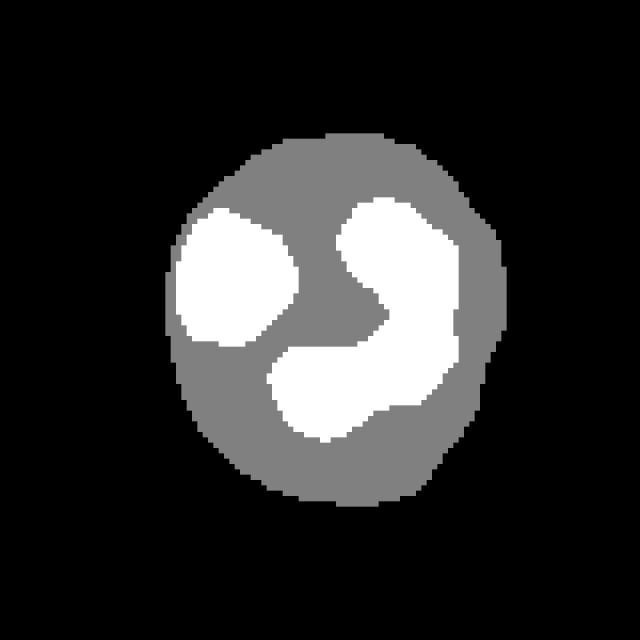WBC: (139, 123, 533, 549)
